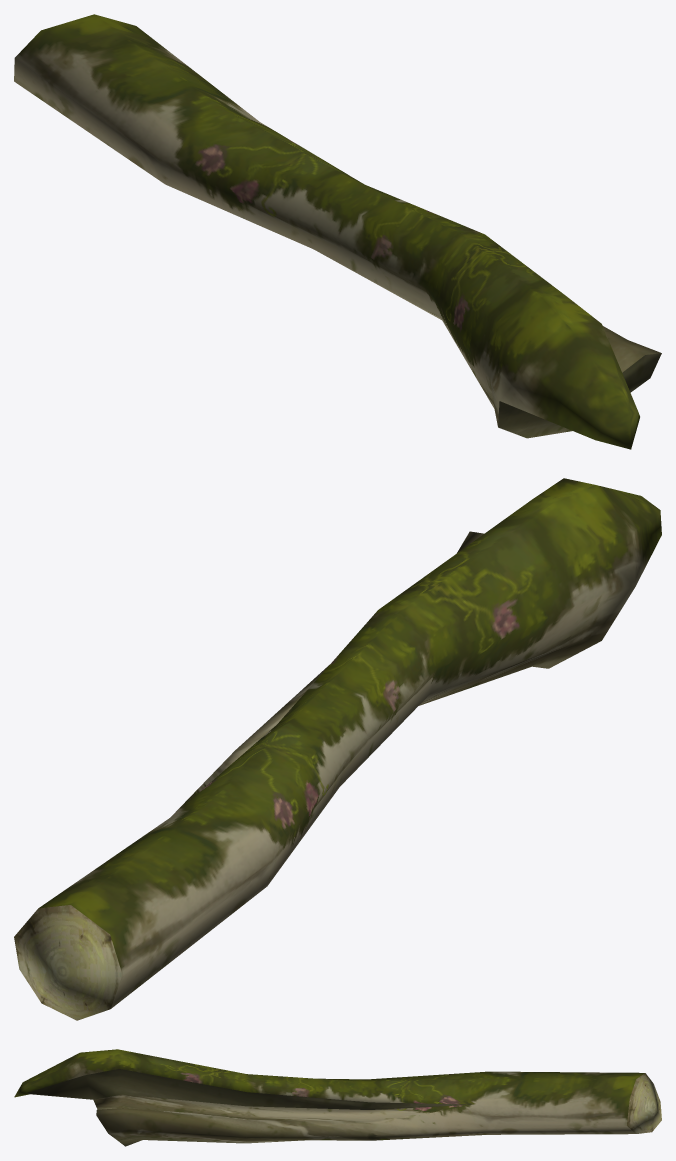
File: Wetlands_Log_03.fbx
3 renders of one model, top to bottom at view 1: azimuth 30°, elevation 25°; view 2: azimuth 150°, elevation 25°; view 3: azimuth 270°, elevation 25°, orthographic. The views are drawn at different scales.
Visible parts, largest first — view 1: Wetlands_Log_03; view 2: Wetlands_Log_03; view 3: Wetlands_Log_03.
Boxes of the visible parts, <box> form: Wetlands_Log_03: <box>14,14,661,449</box>; Wetlands_Log_03: <box>14,478,661,1020</box>; Wetlands_Log_03: <box>14,1049,661,1146</box>.
Size of the model in its own units: 2.51 by 2.22 by 15.38.
1 material, 1 textured.
